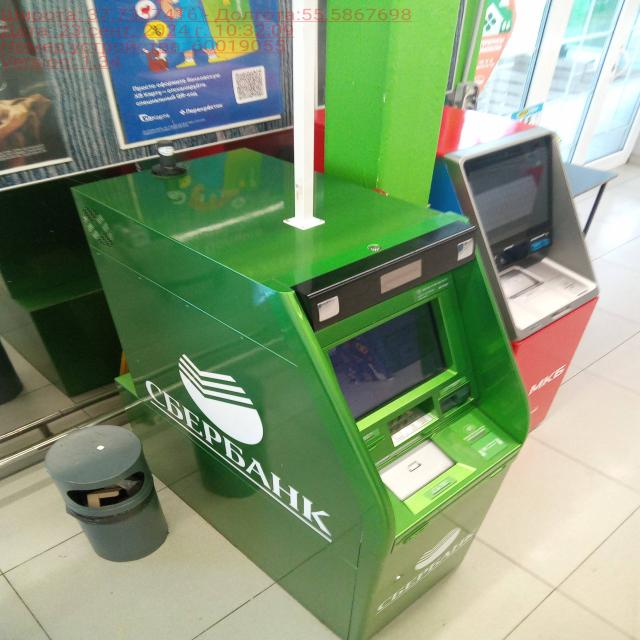bank: (80, 143, 529, 640)
